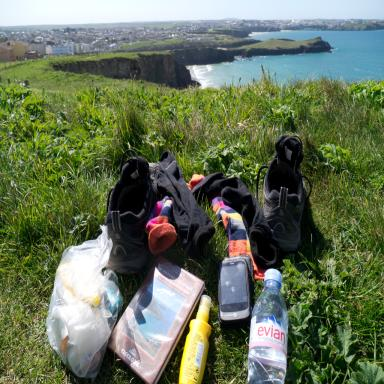plasticbag: (43, 222, 125, 379)
